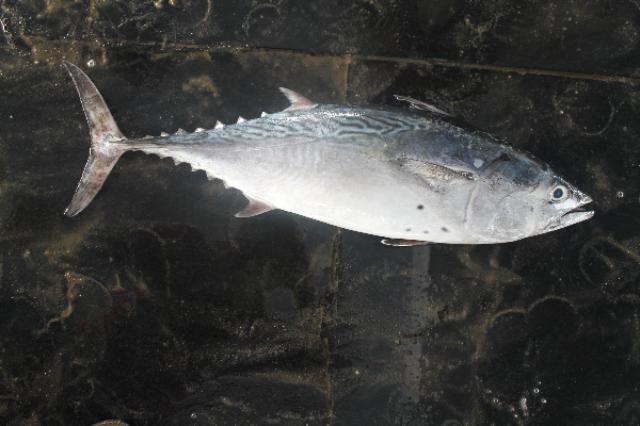Mulut: (553, 181, 613, 243)
Sirip Anal: (230, 190, 276, 230)
Sirip Dada: (390, 151, 474, 193)
Sirip Ekor: (58, 57, 130, 227)
Sirip Perut: (373, 223, 439, 257)
Sirip Punggung: (272, 74, 458, 130)
